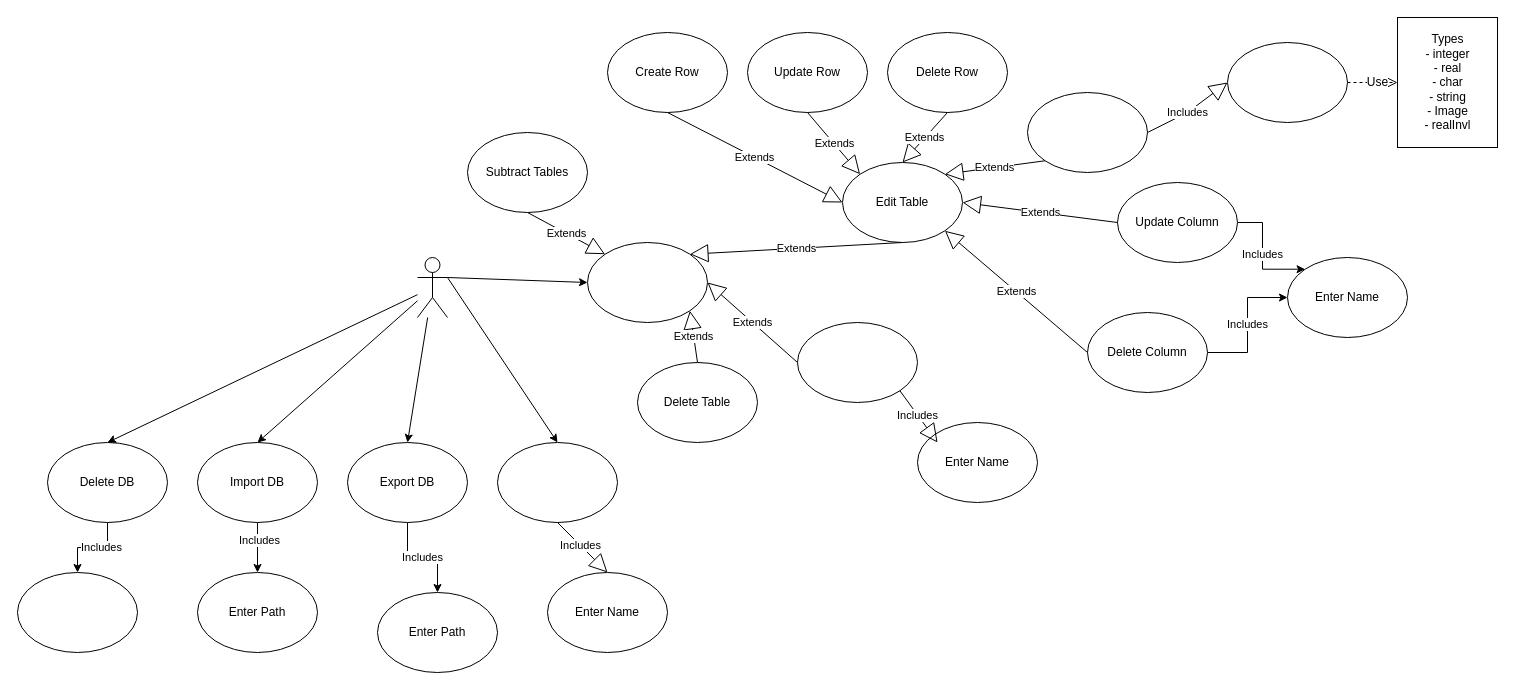
The diagram is 1515 pixels wide and 690 high, and some of its shapes have lost their labels. The centre of each missing label's shape, as x and y in pixels:
Actor: [432,287]
Create Column: [1087,132]
Create DB: [557,482]
Create Table: [857,362]
Edit DB: [647,282]
Enter Id: [77,612]
Select Type: [1287,82]
